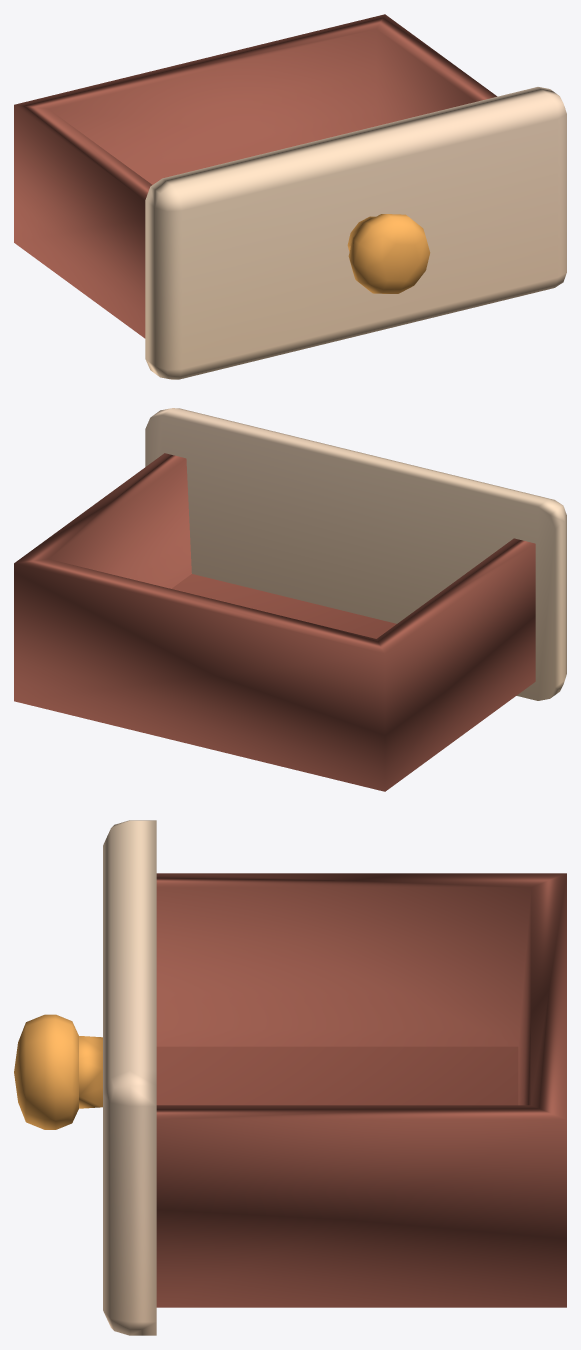
The model's file is Nightstand_001_Shelf_001.fbx.
The picture shows the model from 3 angles, top to bottom: view 1: azimuth 30°, elevation 25°; view 2: azimuth 150°, elevation 25°; view 3: azimuth 270°, elevation 25°; orthographic projection. The views are drawn at different scales.
Parts seen in each view (by area): view 1: Nightstand_001_Shelf_001; view 2: Nightstand_001_Shelf_001; view 3: Nightstand_001_Shelf_001.
Part boxes in pixels (<box>): Nightstand_001_Shelf_001: <box>14,14,566,379</box>; Nightstand_001_Shelf_001: <box>14,408,566,791</box>; Nightstand_001_Shelf_001: <box>14,820,566,1335</box>.
Bounding box in the file's own units: 36 × 30.9 × 16.29.
